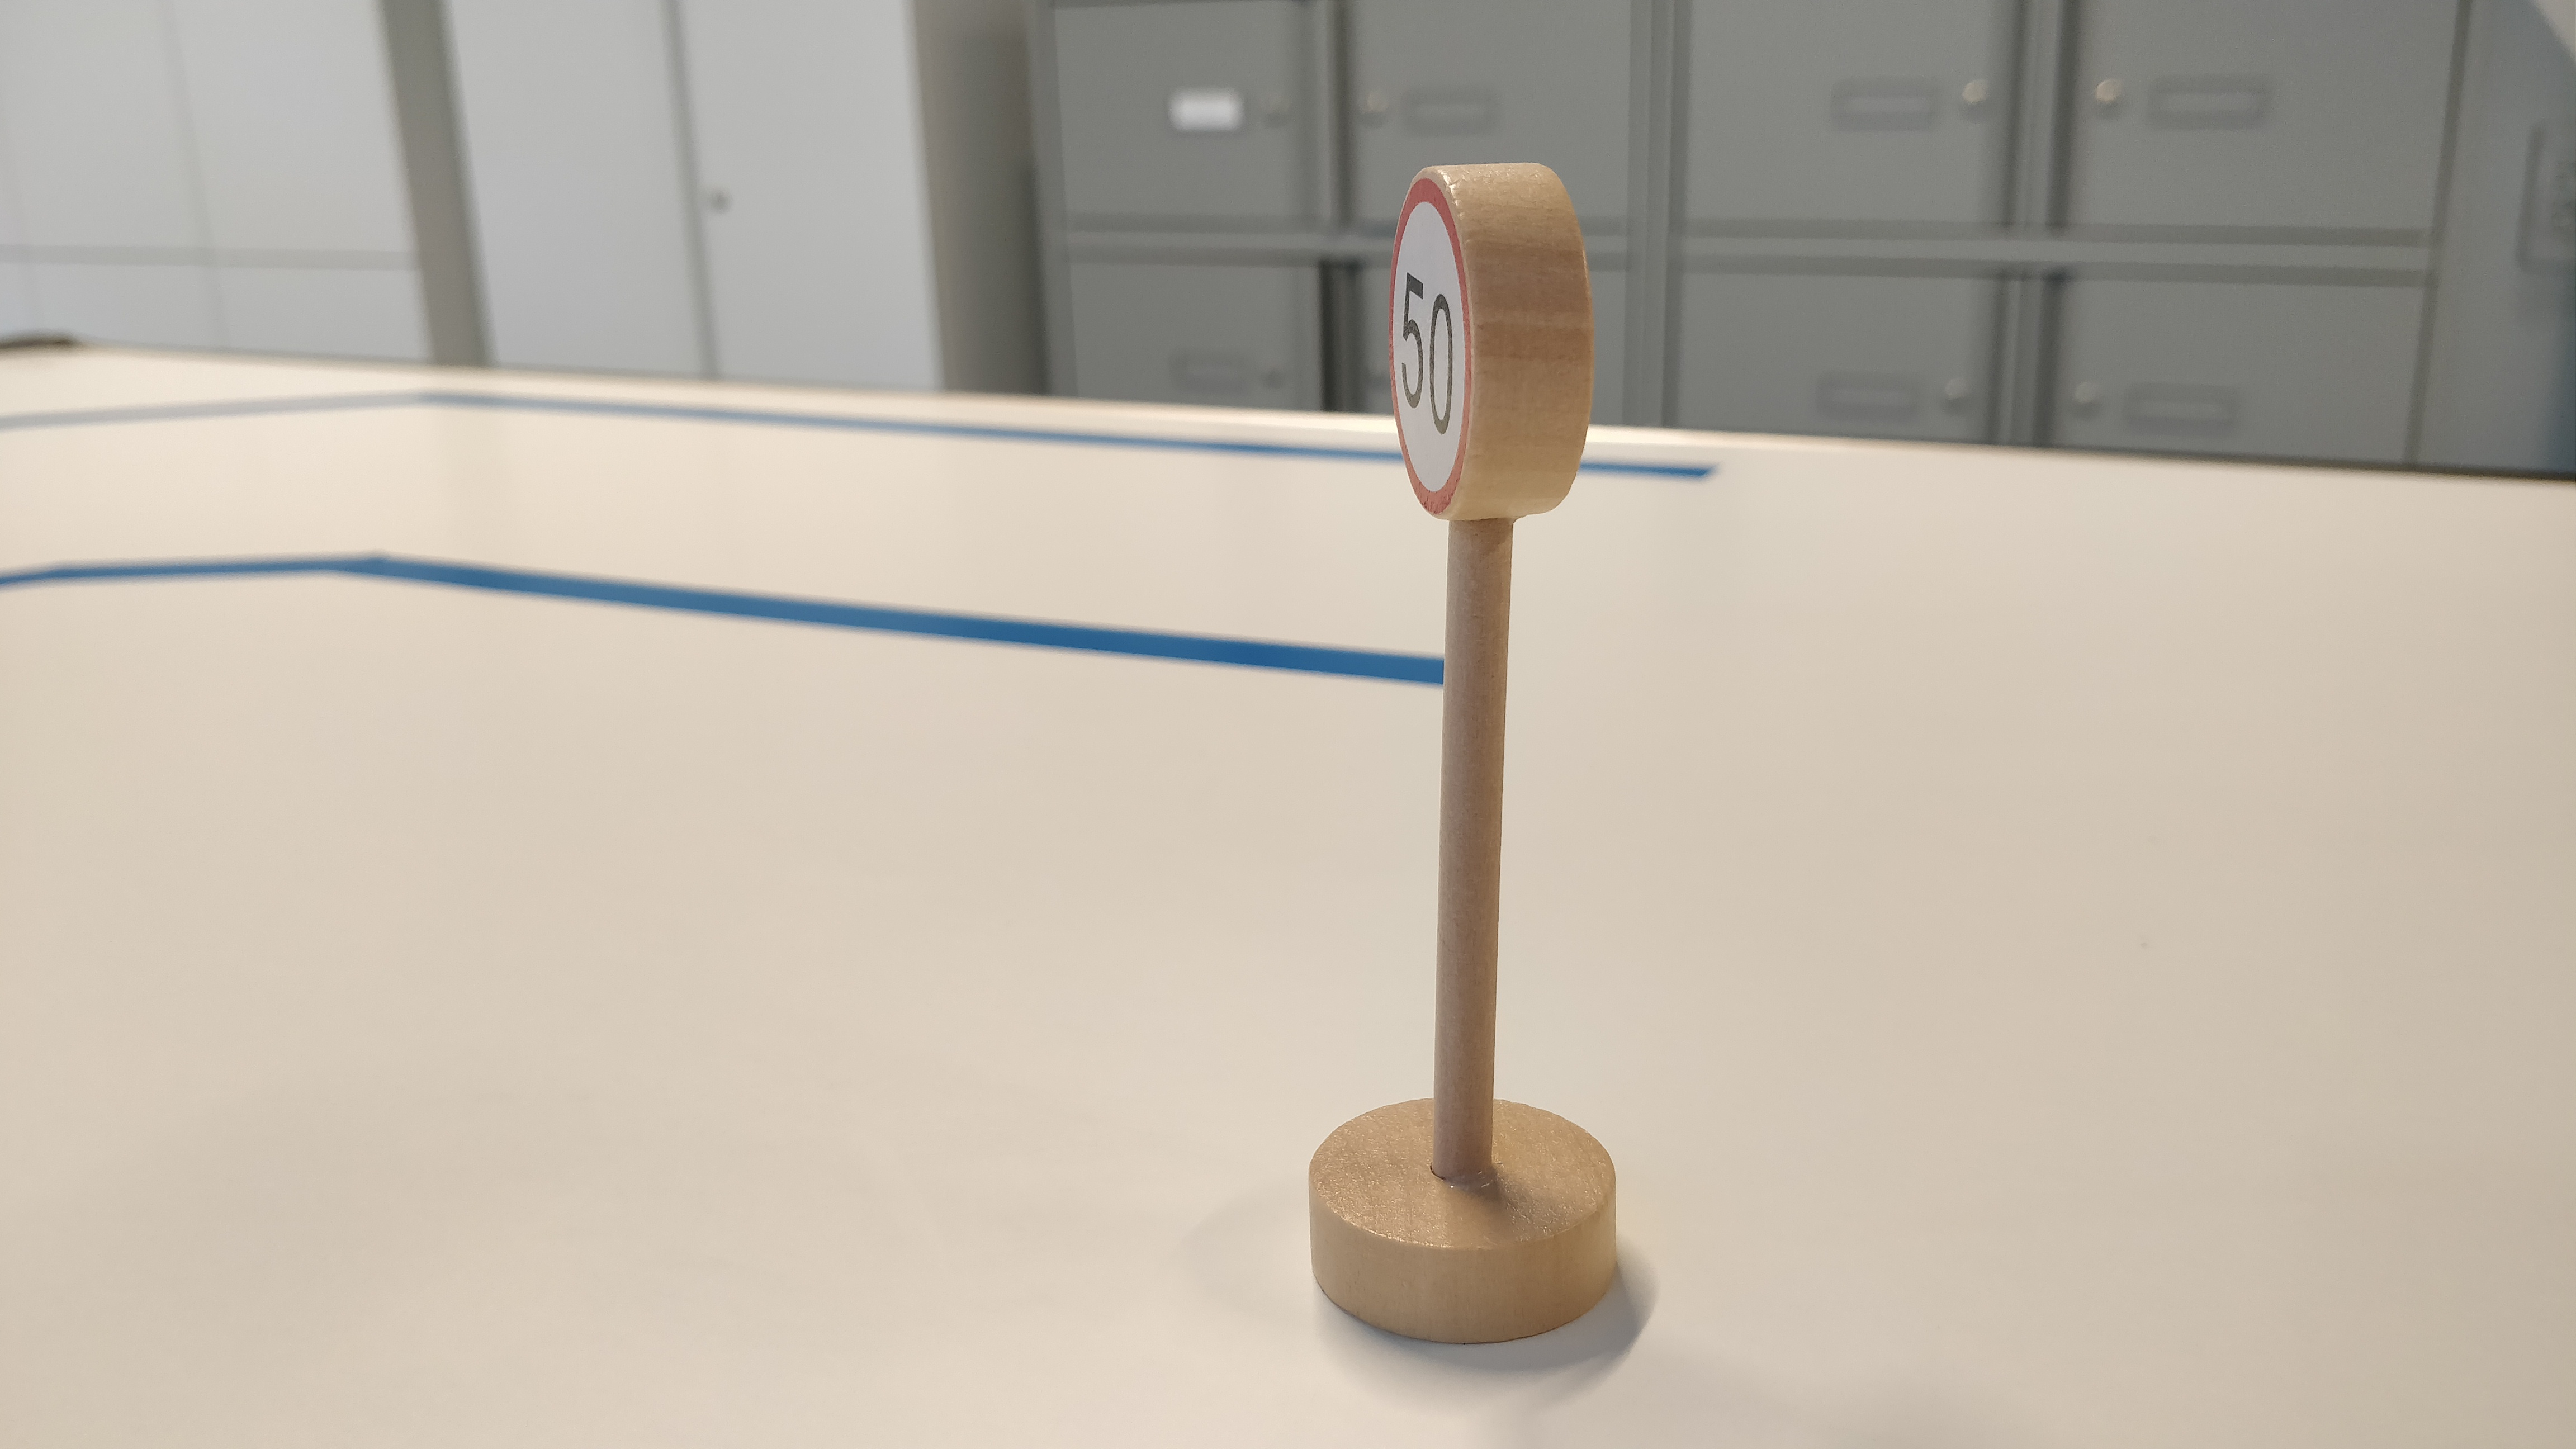Speed Limit 50: (1383, 165, 1596, 521)
